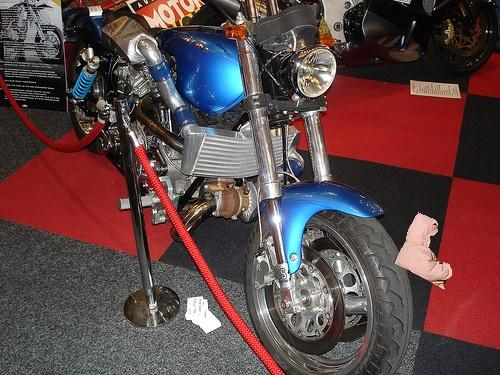tampered: (395, 213, 452, 289)
